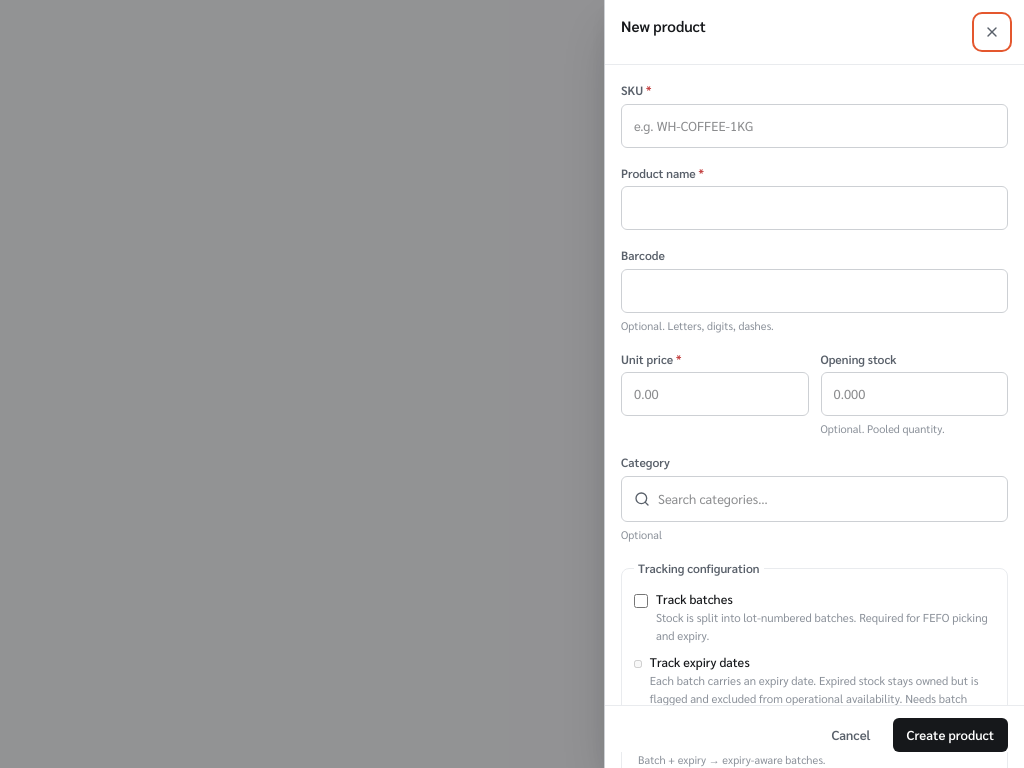
Test: CreateProductDrawer › blocks an invalid SKU with an inline message
The width and height of the screenshot is (1024, 768).
Type "bad sku!" into the field labelled "SKU *" at x=814, y=126, box top-left (621, 104), bottom-right (1008, 148)
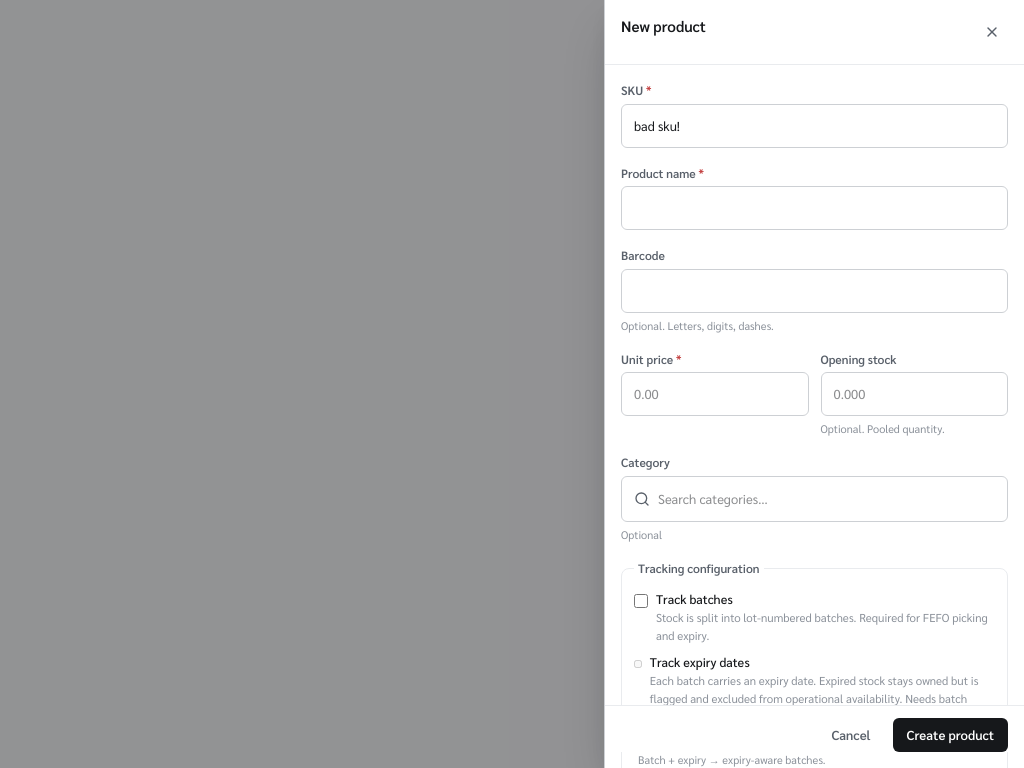
Type "X" into the field labelled "Product name *" at x=814, y=208, box top-left (621, 186), bottom-right (1008, 230)
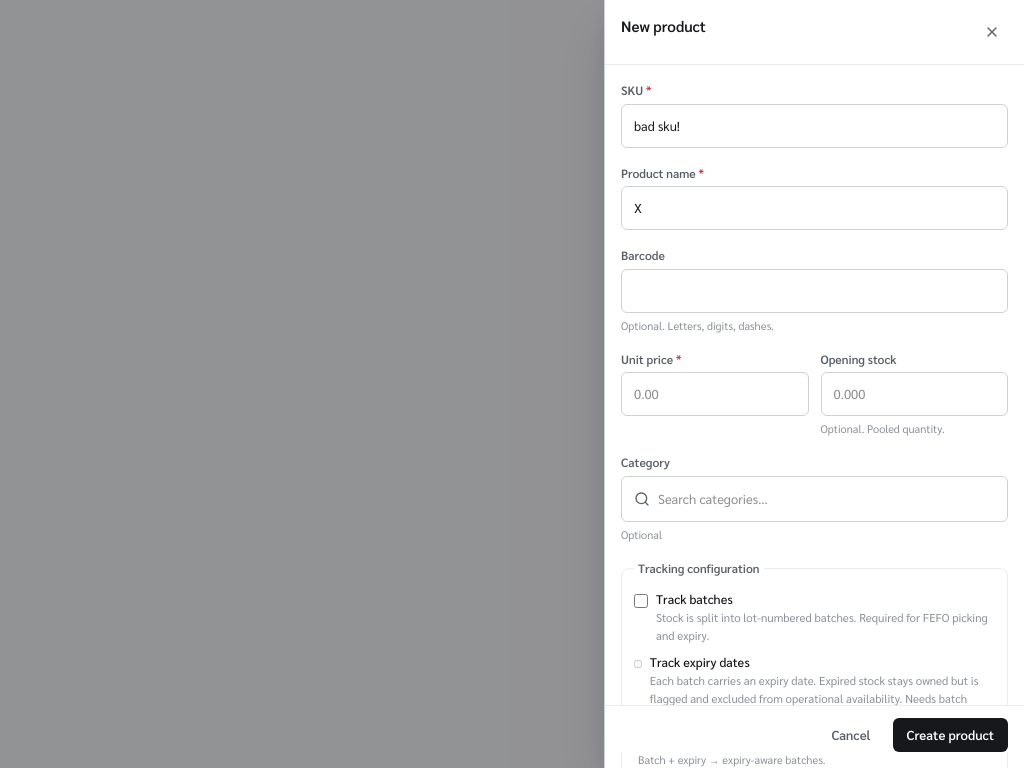
Type "1.00" into the field labelled "Unit price *" at x=715, y=394, box top-left (621, 372), bottom-right (808, 416)
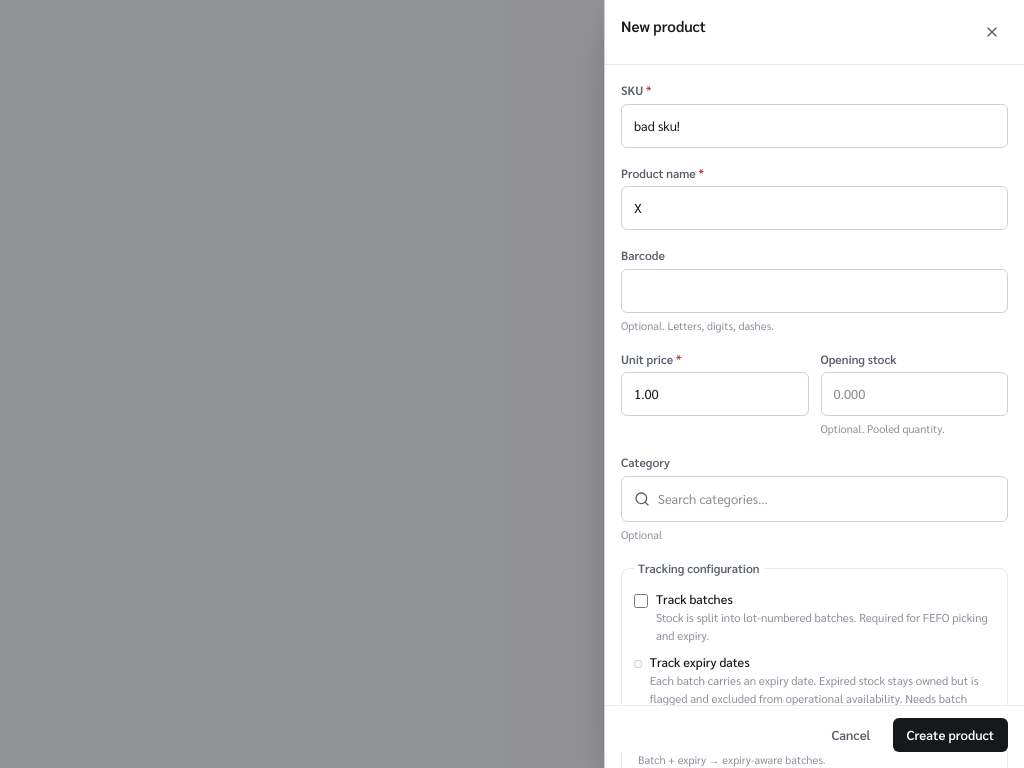
Click the button "Create product" at x=950, y=735, box top-left (892, 718), bottom-right (1008, 752)
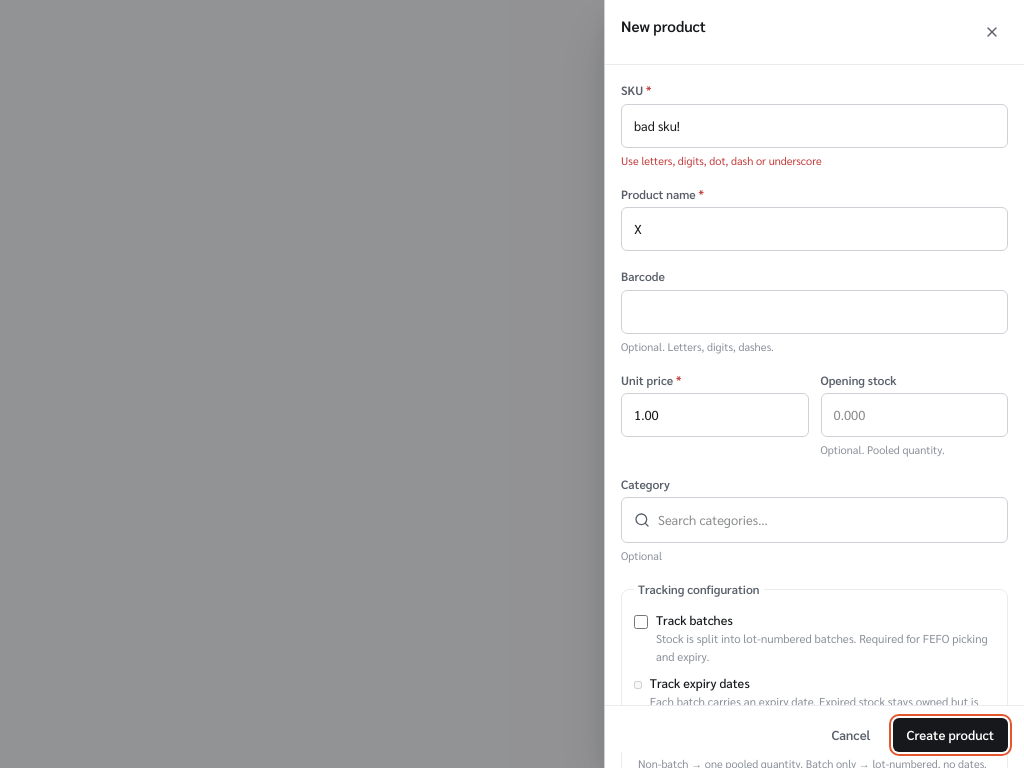
Result: the text "Use letters, digits, dot, dash or underscore" is shown at top-left (621, 153), bottom-right (822, 168)
